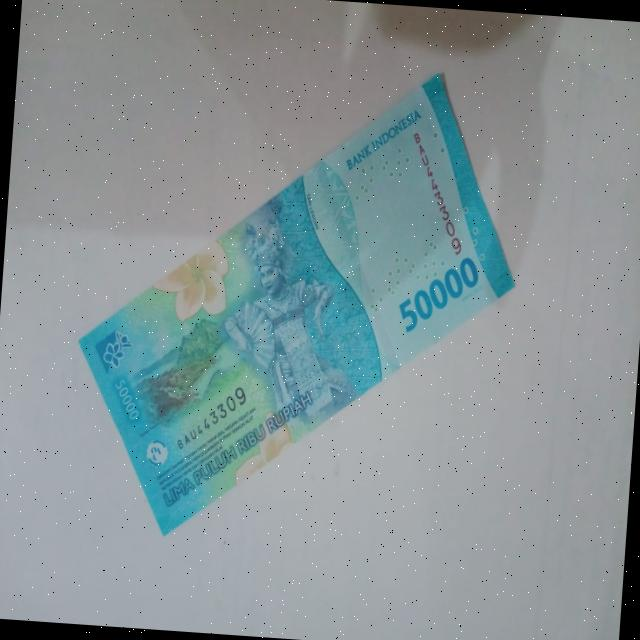50K: (59, 46, 535, 566)
